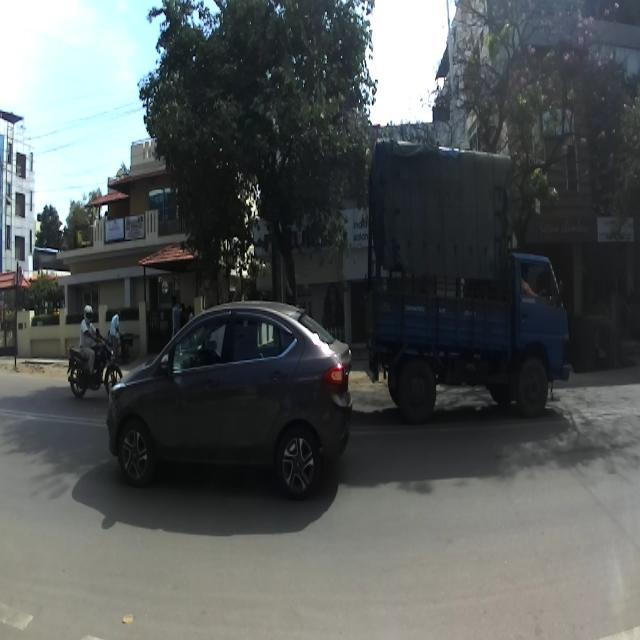Car_TATA: (104, 299, 353, 502)
motorcycle_Hero: (66, 326, 122, 398)
truck: (351, 117, 578, 454)
